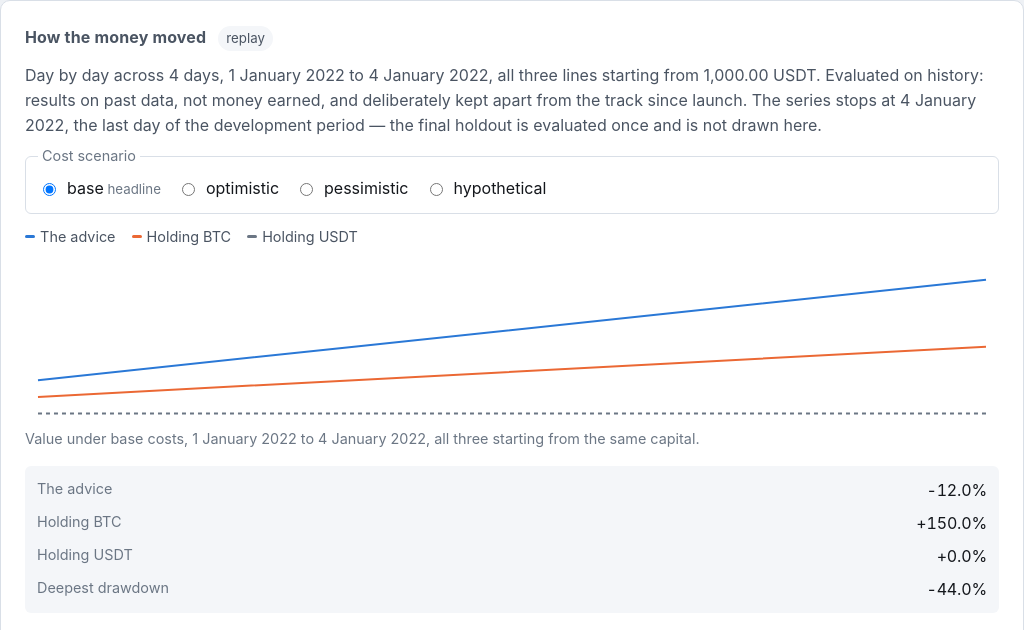
Scenario: the replay series panel › refuses a scenario with a series but no published aggregate, rather than dropping it
Click the radio button labelled "hypothetical".
click(436, 190)  # box x1=430 y1=183 x2=442 y2=196
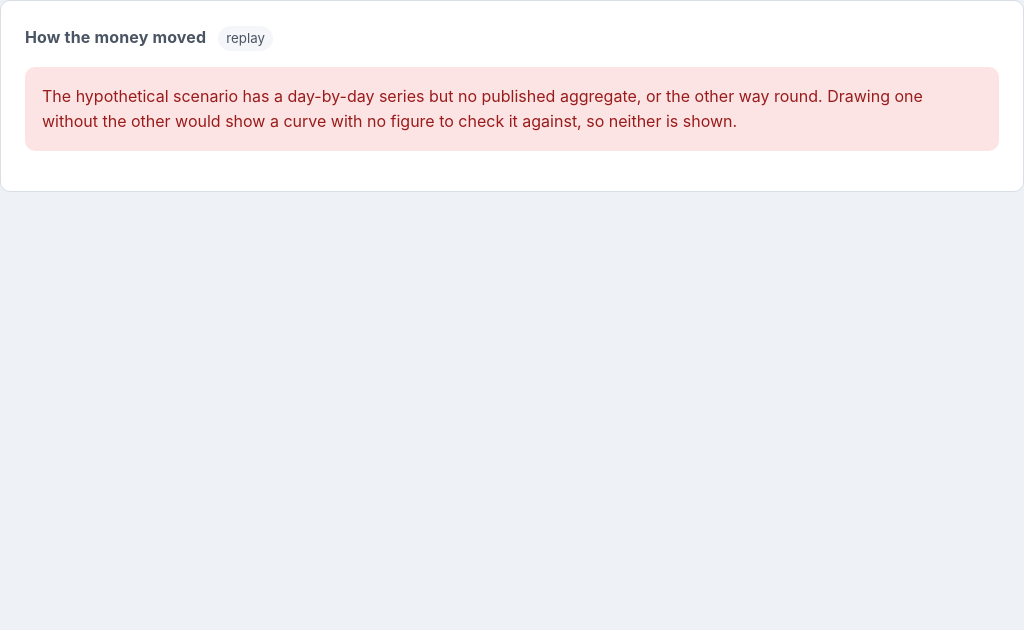
Check: the text with test id "series-scenario-missing" is shown, box x1=25 y1=67 x2=999 y2=151
Check: the picture with test id "equity-chart" is gone
